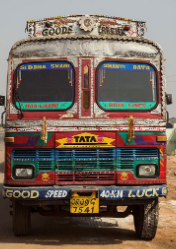truck: (1, 11, 174, 244)
